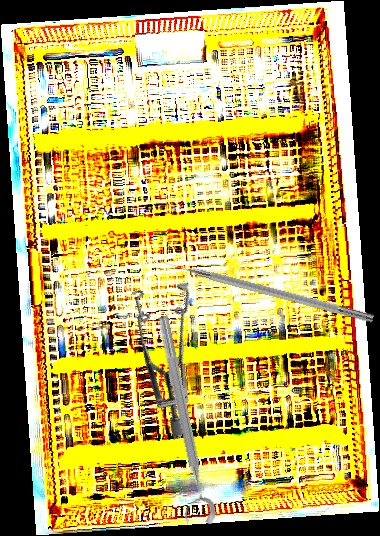Fixation Ring: (141, 313, 218, 530)
Hook Surgical: (153, 253, 375, 325)
Speculum: (82, 262, 244, 441)
